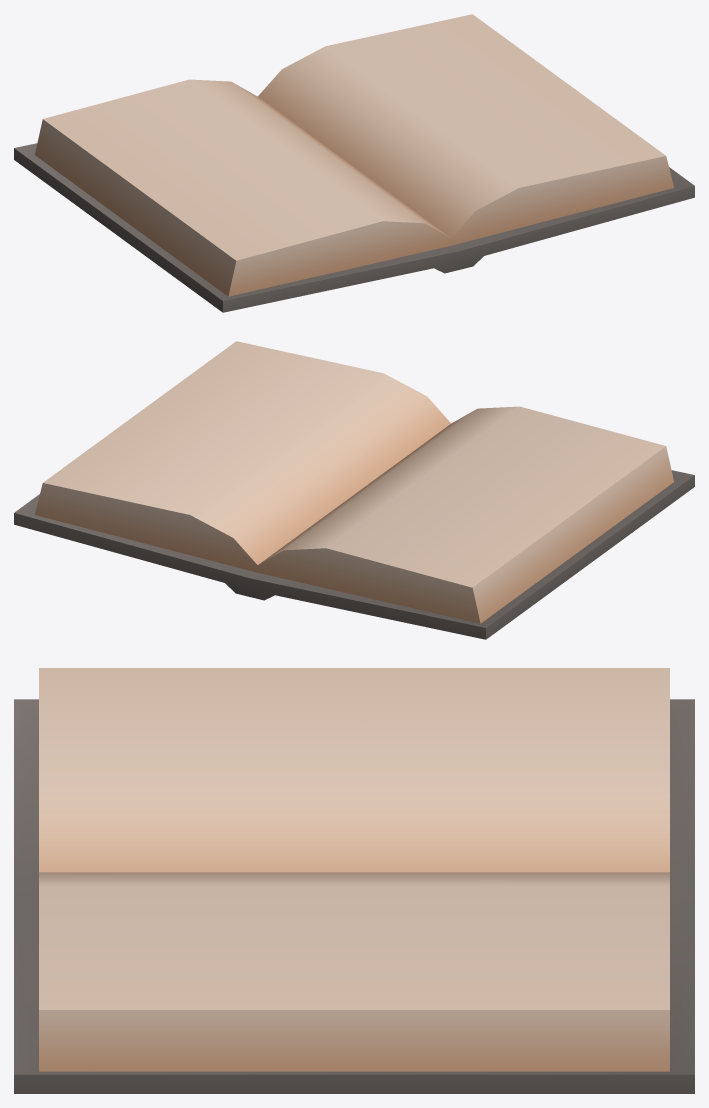
File: BookOpen3.fbx
The picture shows the model from 3 angles, top to bottom: view 1: azimuth 30°, elevation 25°; view 2: azimuth 150°, elevation 25°; view 3: azimuth 270°, elevation 25°; orthographic projection. The views are drawn at different scales.
Parts seen in each view (by area): view 1: BookOpen3; view 2: BookOpen3; view 3: BookOpen3.
Part boxes in pixels (box(x1,y1,x2,y2)): BookOpen3: box(14, 14, 694, 312); BookOpen3: box(14, 341, 694, 639); BookOpen3: box(14, 668, 694, 1093).
Bounding box in the file's own units: 43.62 × 5.29 × 33.45.
